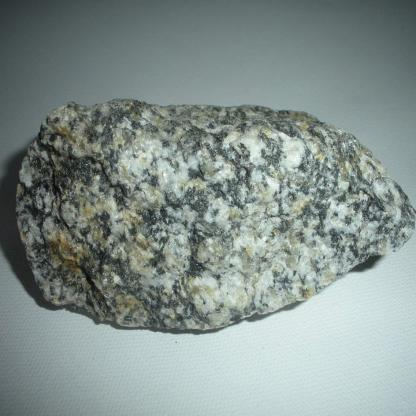Igneous_Granite: (11, 89, 415, 335)
